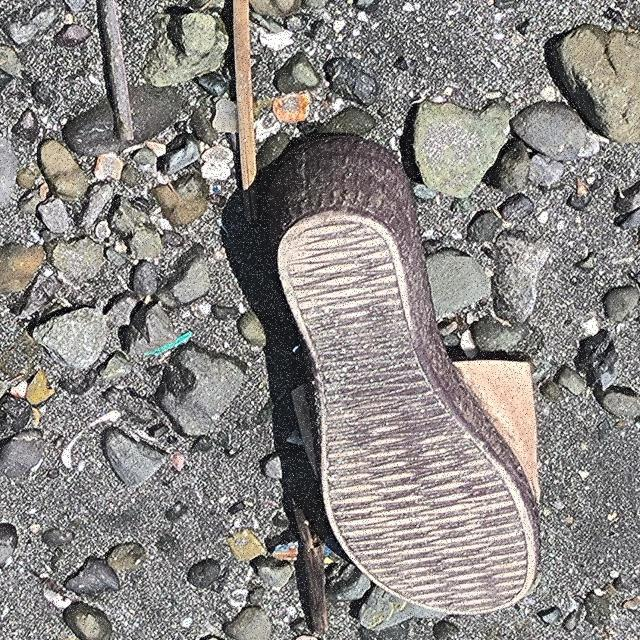rubber_waste: (266, 134, 541, 617)
